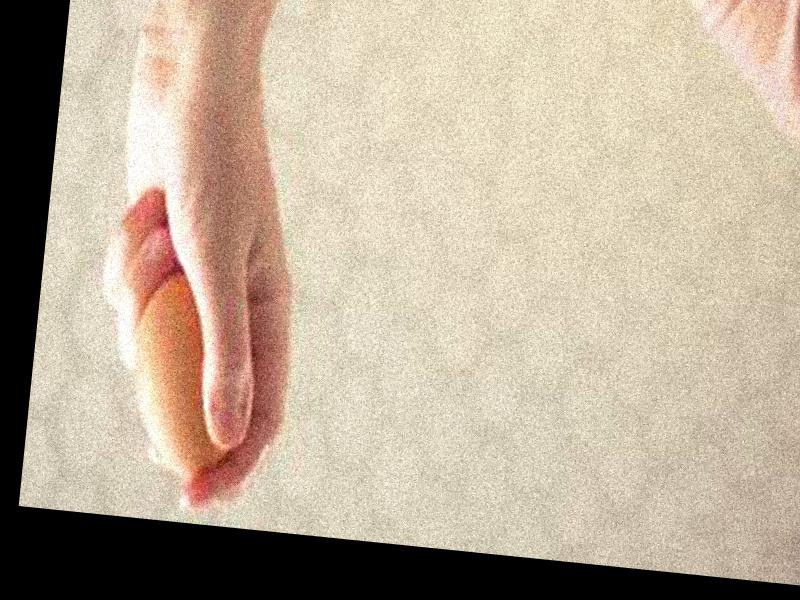Eggs: (118, 269, 255, 480)
